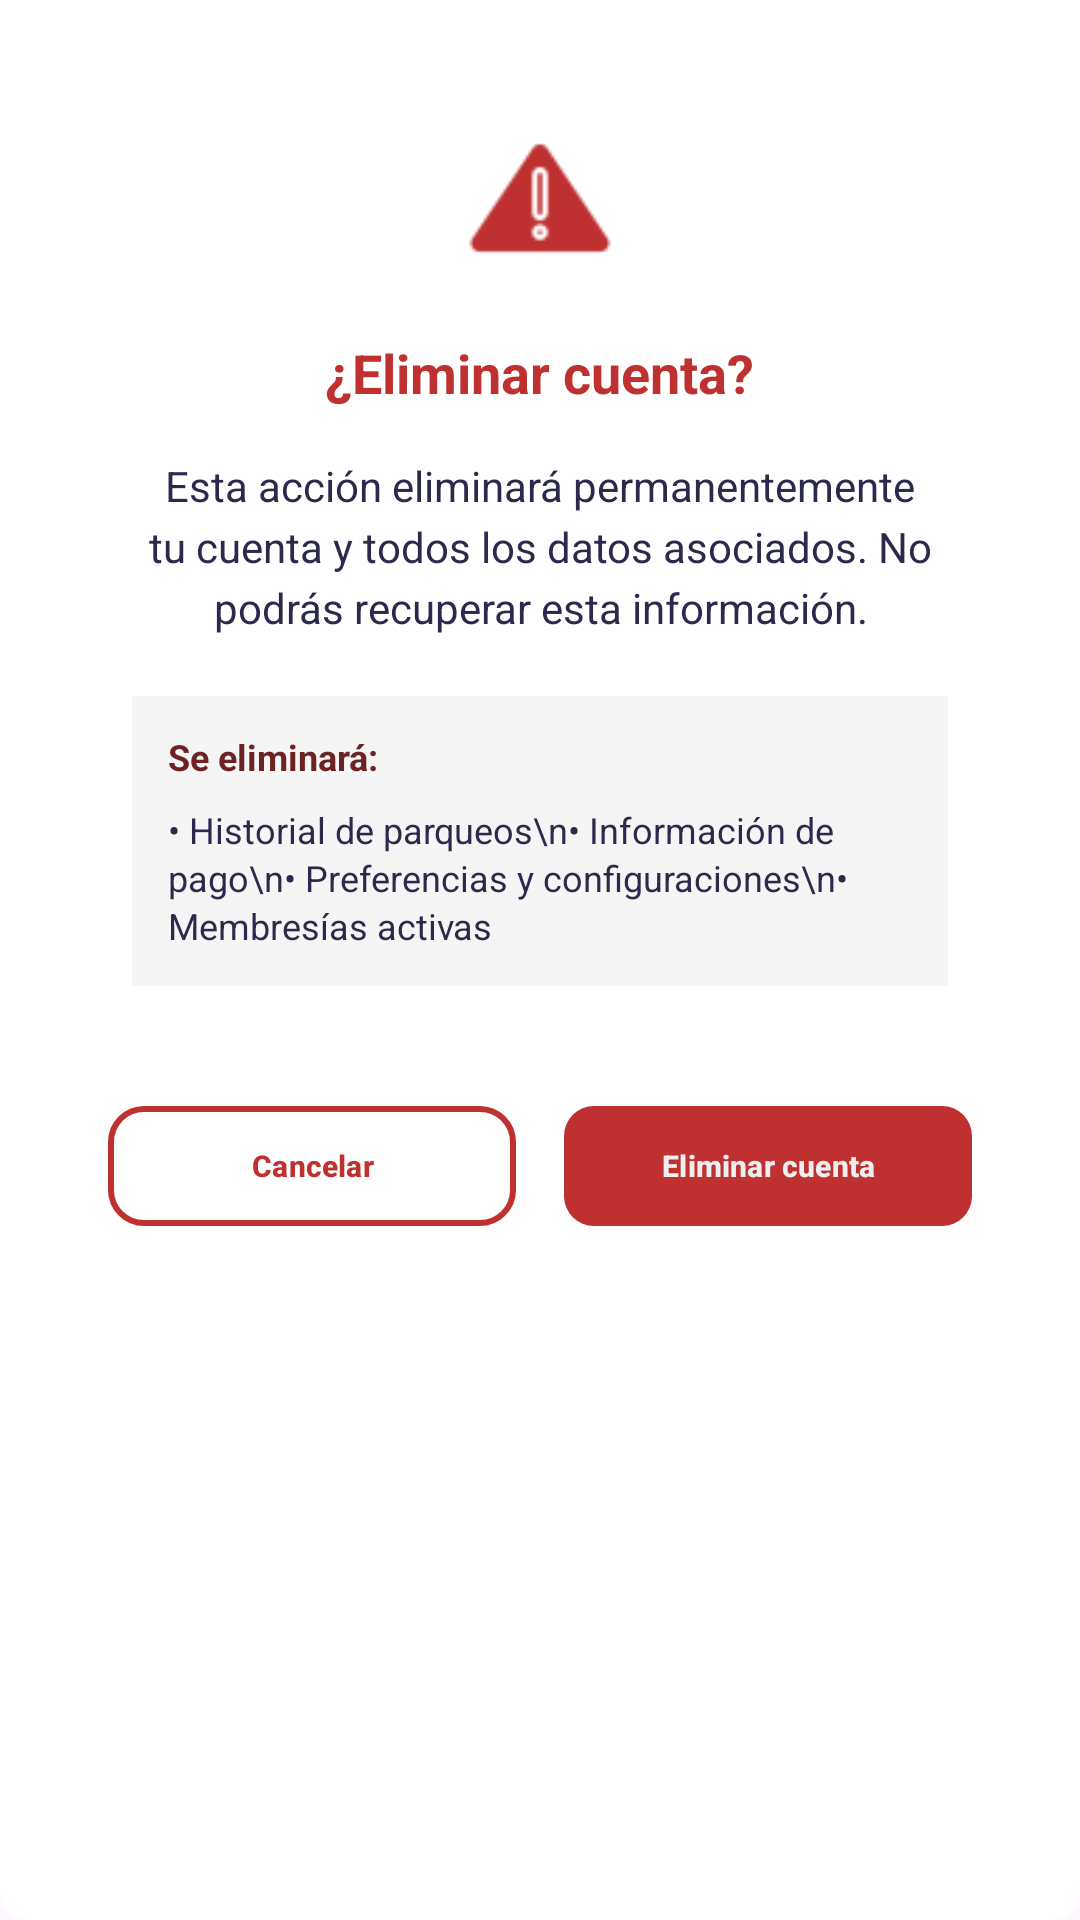

Locate icon controls on the screen. Image size 1080px×1920px, boxes as (x1, y1, x2, y2).
Advertencia: (469, 143, 611, 253)
